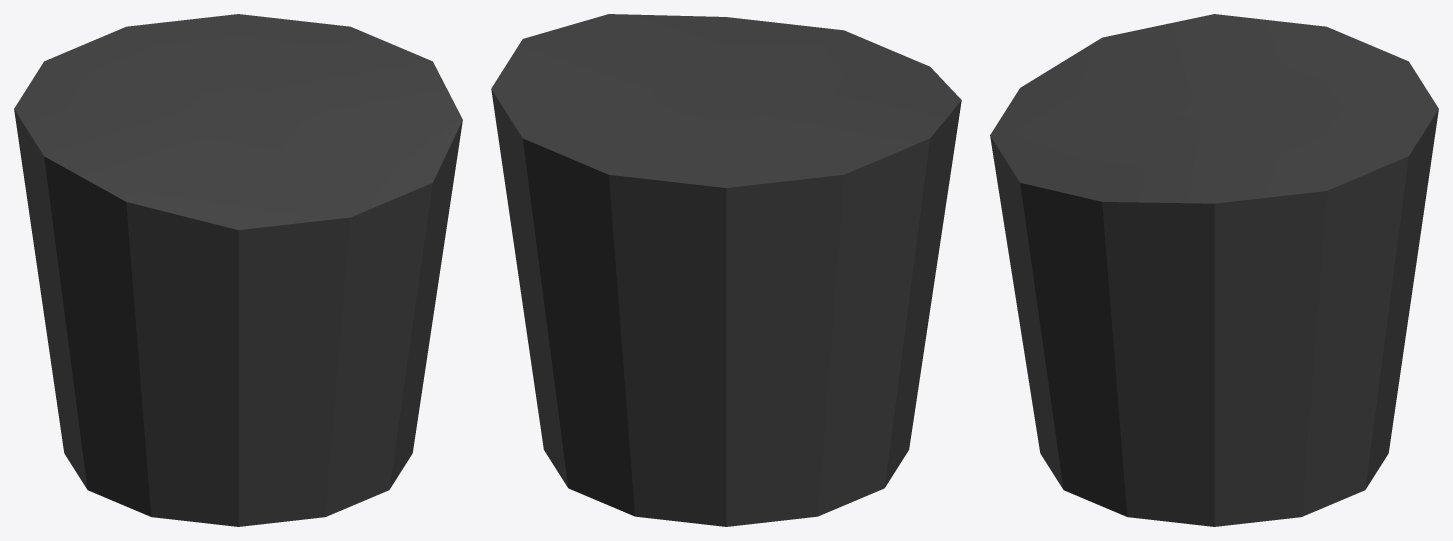
File: Chest_Des.fbx
3 views of the same model, side by side, from view 1: azimuth 30°, elevation 25°; view 2: azimuth 150°, elevation 25°; view 3: azimuth 270°, elevation 25° (orthographic). The views are drawn at different scales.
Parts seen in each view (by area): view 1: Chest; view 2: Chest; view 3: Chest.
Part boxes in pixels (left/top/right/bottom): Chest: left=14, top=14, right=462, bottom=526; Chest: left=491, top=14, right=961, bottom=526; Chest: left=990, top=14, right=1438, bottom=526.
Bounding box in the file's own units: 39.77 × 33.68 × 39.77.
1 material, 1 textured.
